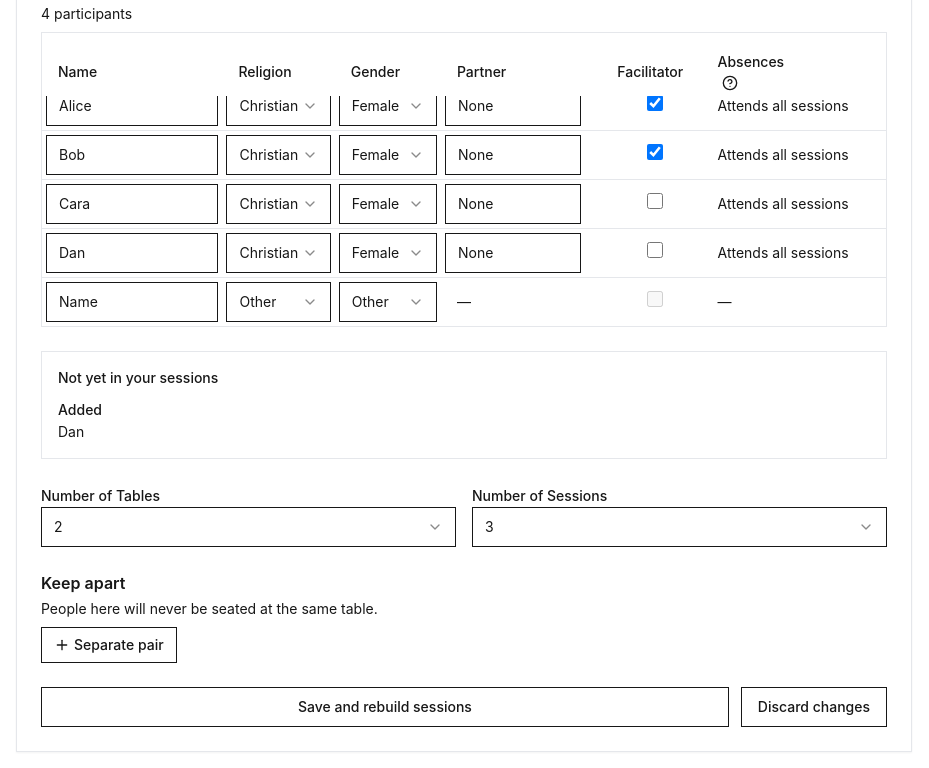
Scenario: rebuilding from the roster › stays on the page when nothing needed rebuilding
This screenshot has width=929, height=768.
(page scrolled)
Click the button "Save and rebuild sessions".
click(385, 706)  # box [41,686,729,726]
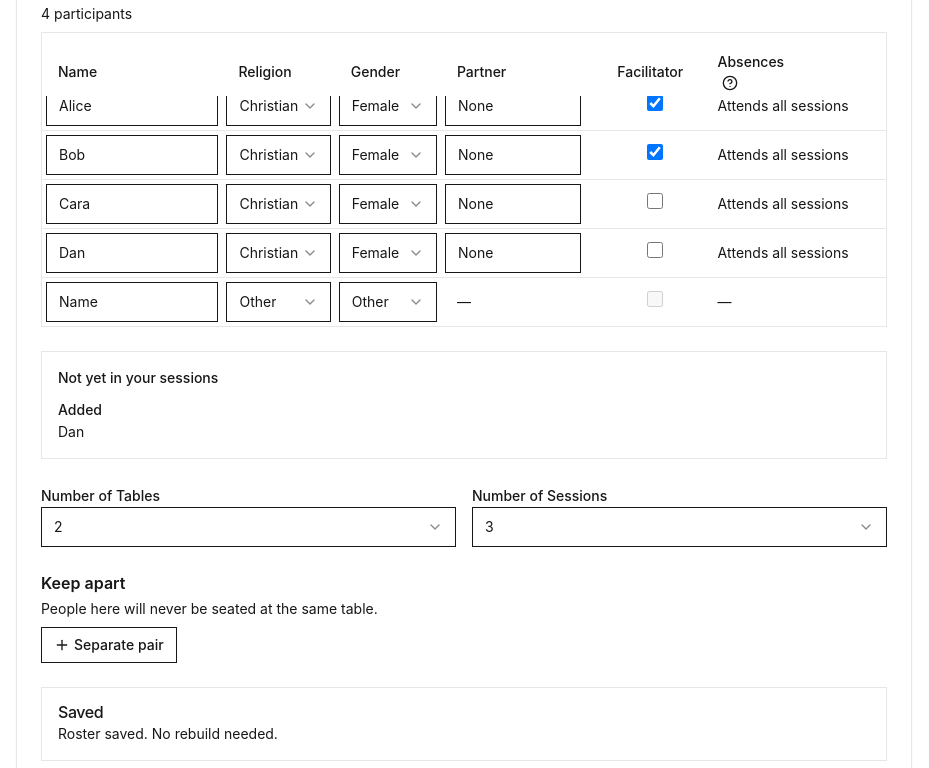
Now the text "Roster saved. No rebuild needed." is shown, box [58,724,278,742]
